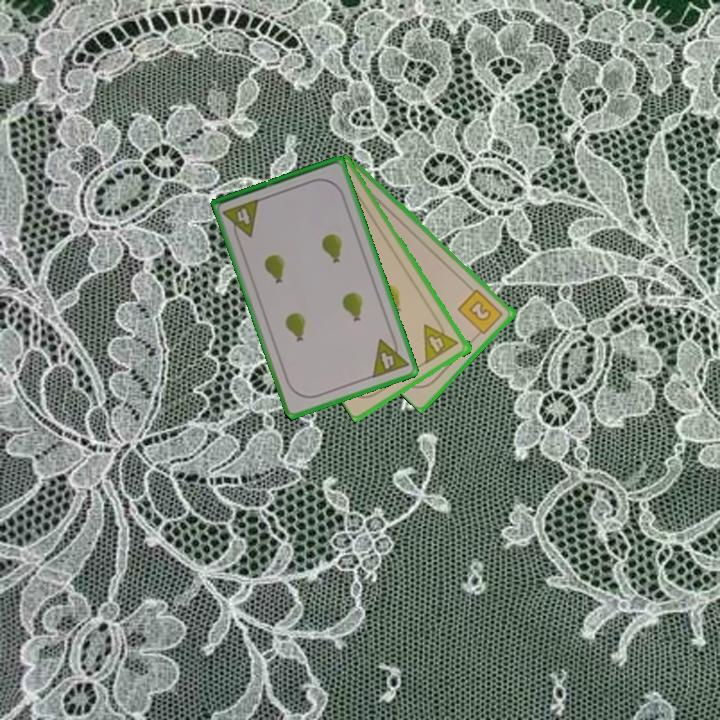2b: (455, 285, 506, 340)
4p: (368, 331, 412, 381), (420, 315, 462, 366), (219, 195, 263, 243)
